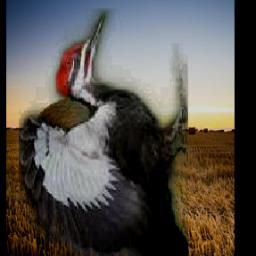Woodpecker: (19, 9, 188, 256)
